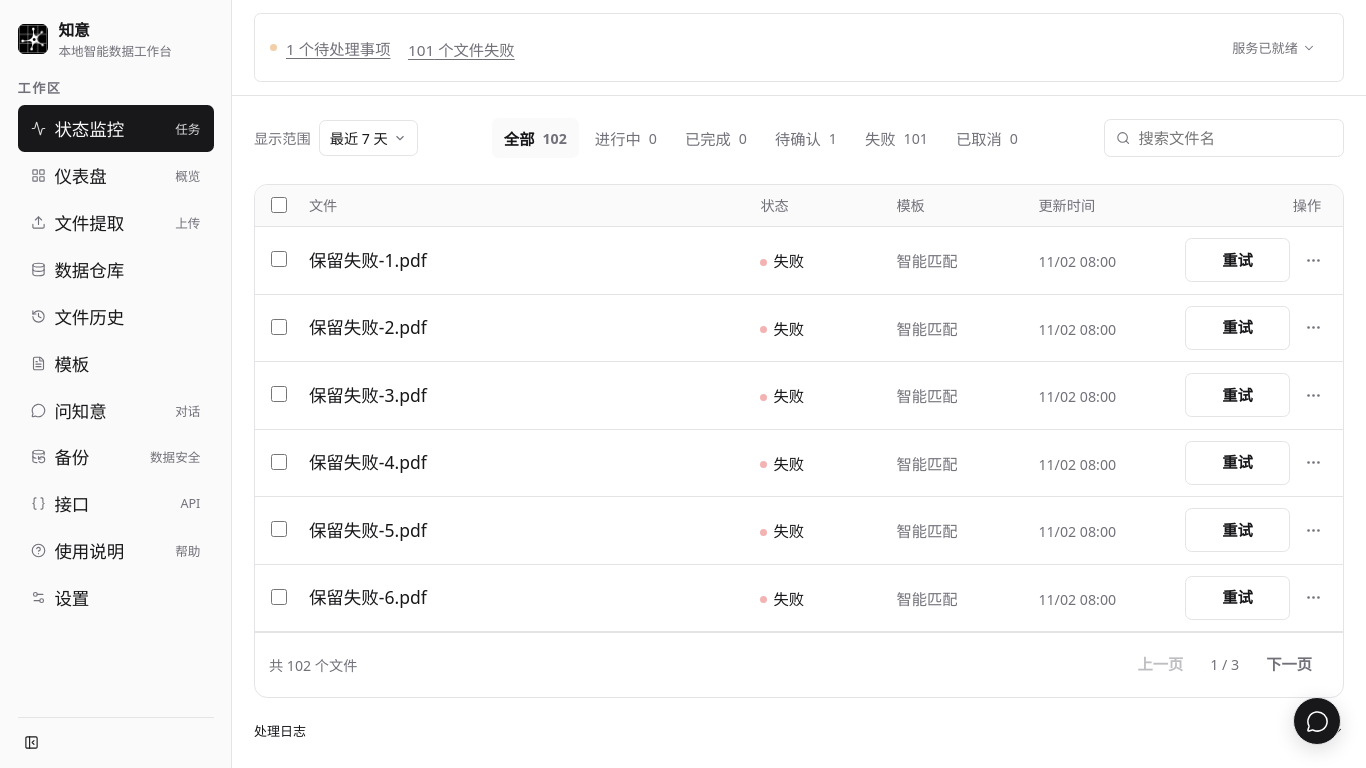
global pending shortcut › keeps the old filter, search and page for the ordinary paused-task shortcut
The width and height of the screenshot is (1366, 768).
Expected: the button "1 个待处理事项" is shown, [286,37,390,59]
Click the button "失败 101".
click(896, 138)  # box [853,118,940,158]
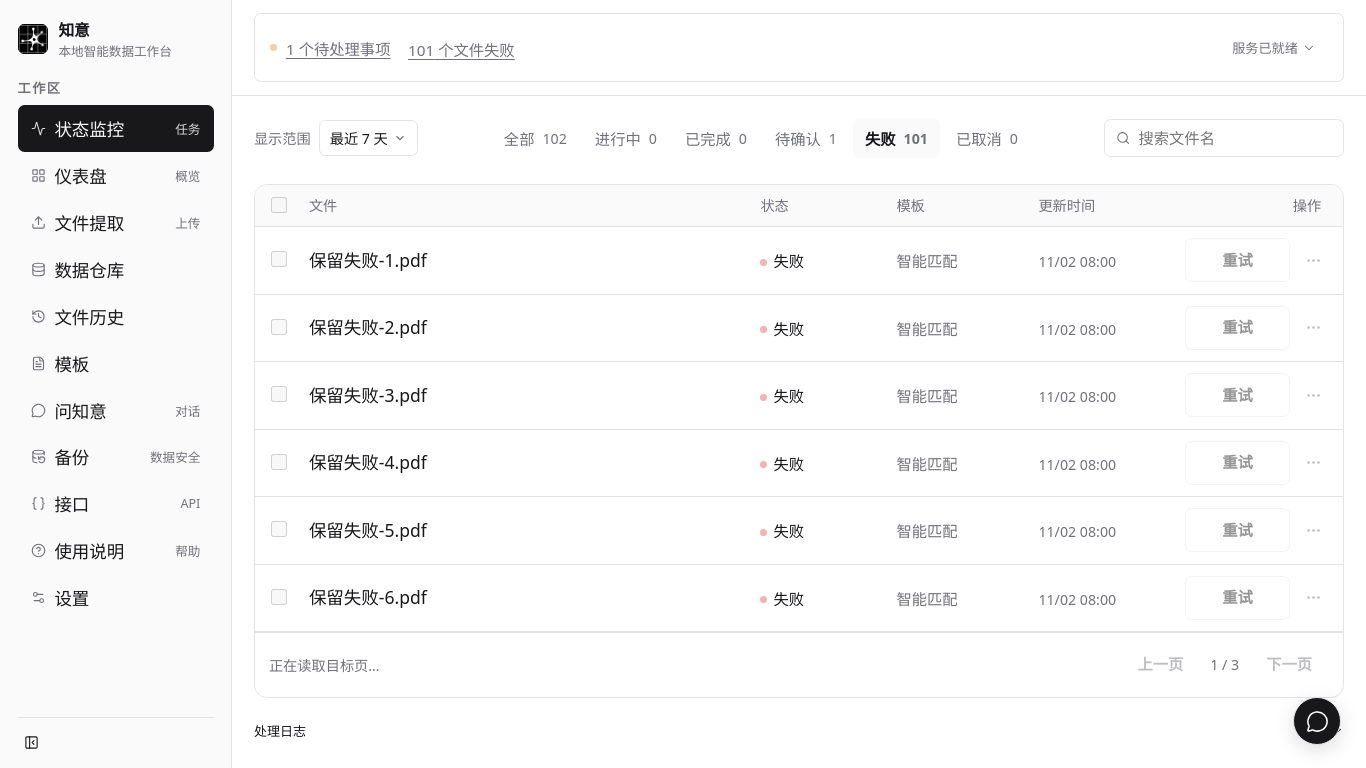
Type "保留" into the field named "搜索任务文件名".
click(1235, 138); type("保留")  # box [1138,128,1332,148]
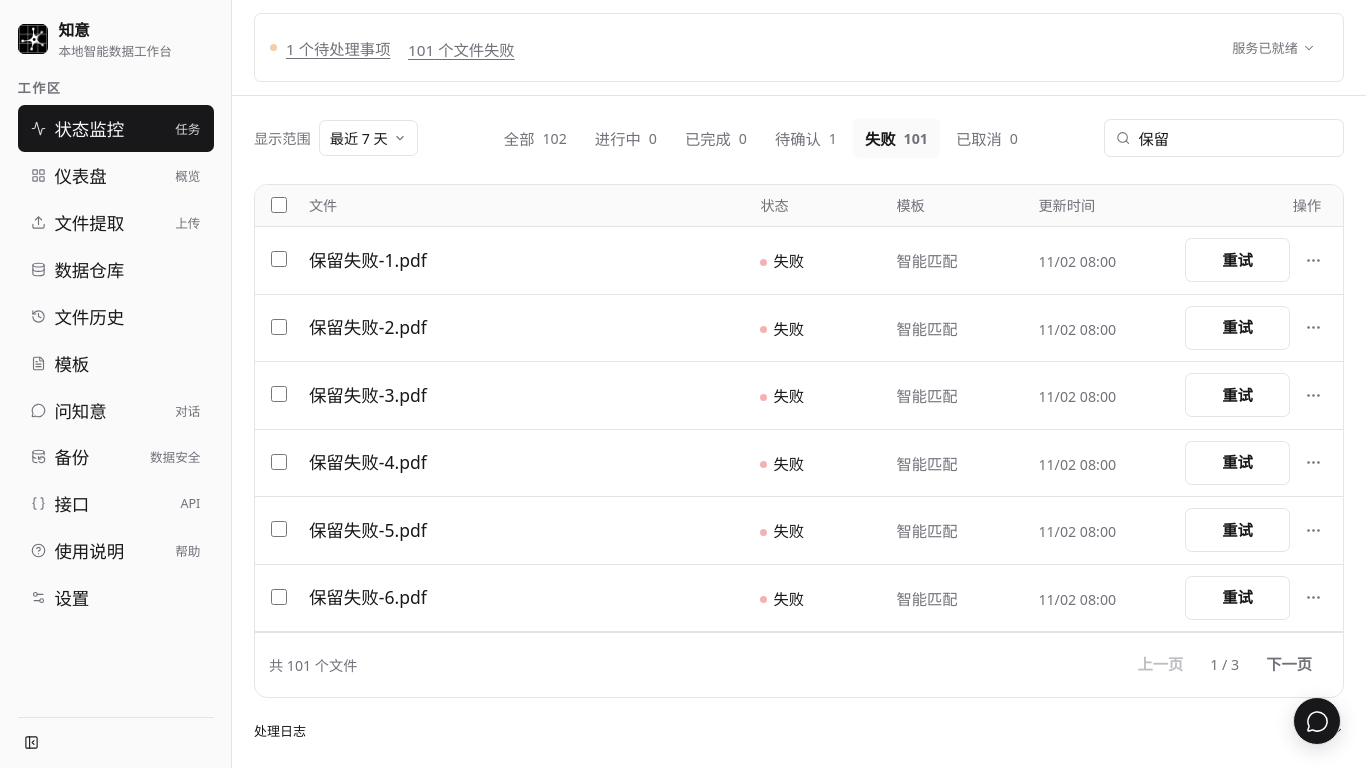
Now the button "下一页" is enabled
Click the button "下一页".
click(1289, 665)  # box [1249,643,1329,687]
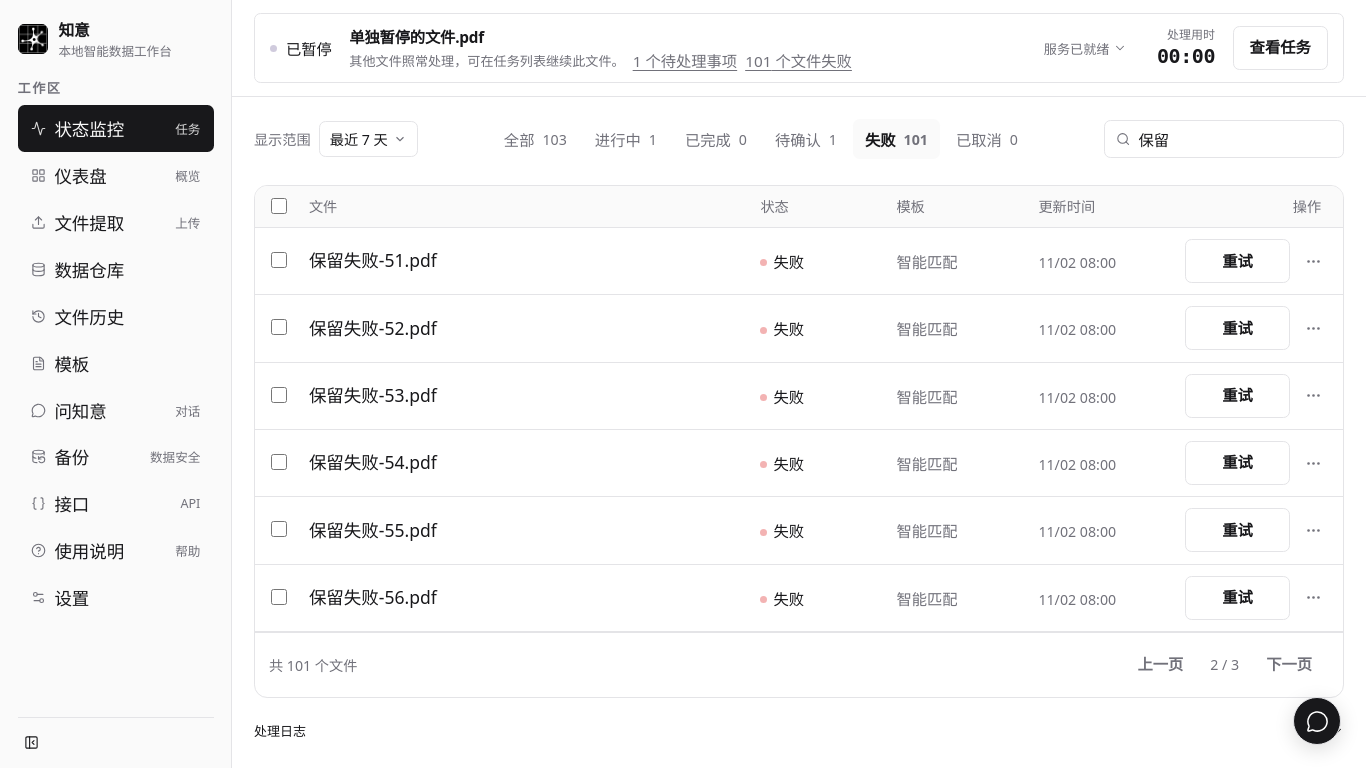
Now the text "保留失败-51.pdf" is shown, box [309,248,437,272]
Now the button "上一页" is enabled, box [1120,643,1200,687]
Now the button "查看任务" is shown, box [1233,26,1328,70]
Click the button "文件提取 上传".
click(116, 223)  # box [18,199,214,246]
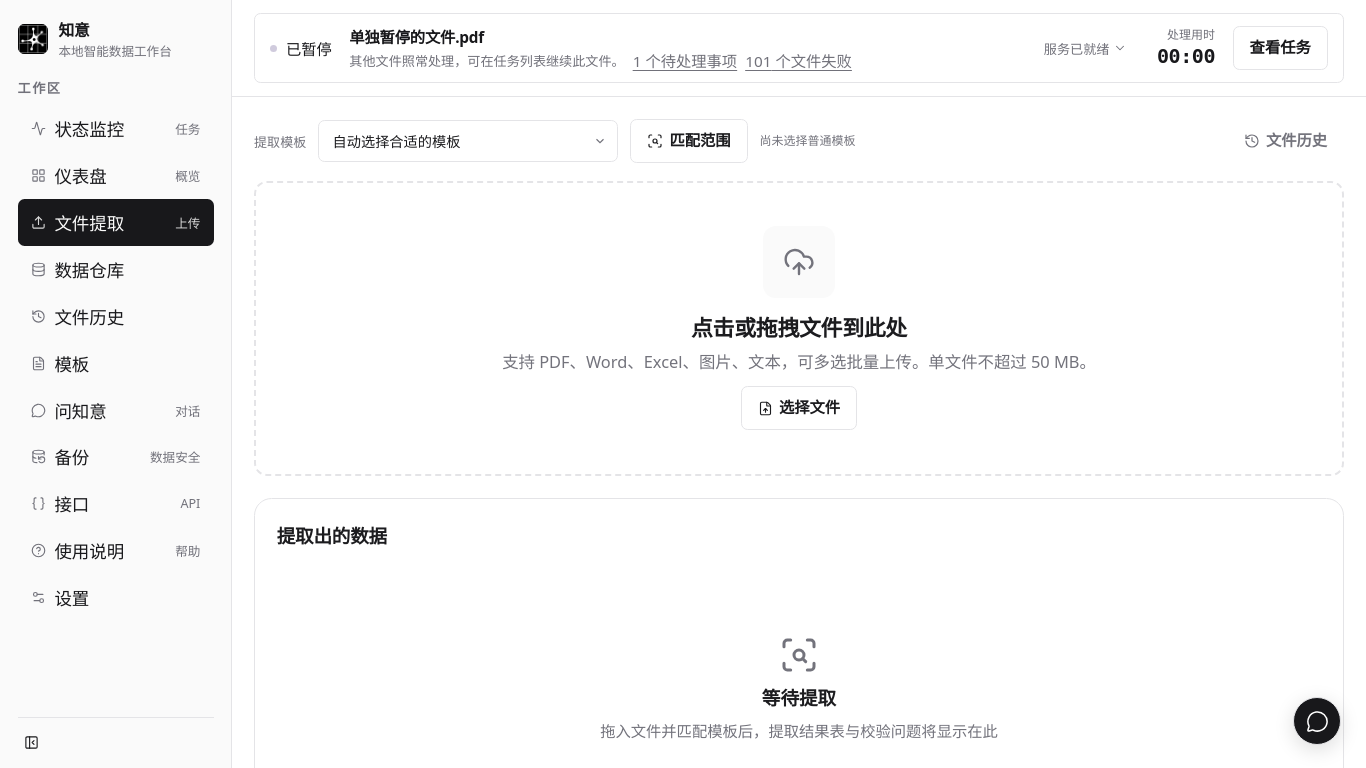
Now the heading "提取出的数据" is shown, box [277,521,387,548]
Click the button "查看任务".
click(1280, 48)  # box [1233,26,1328,70]
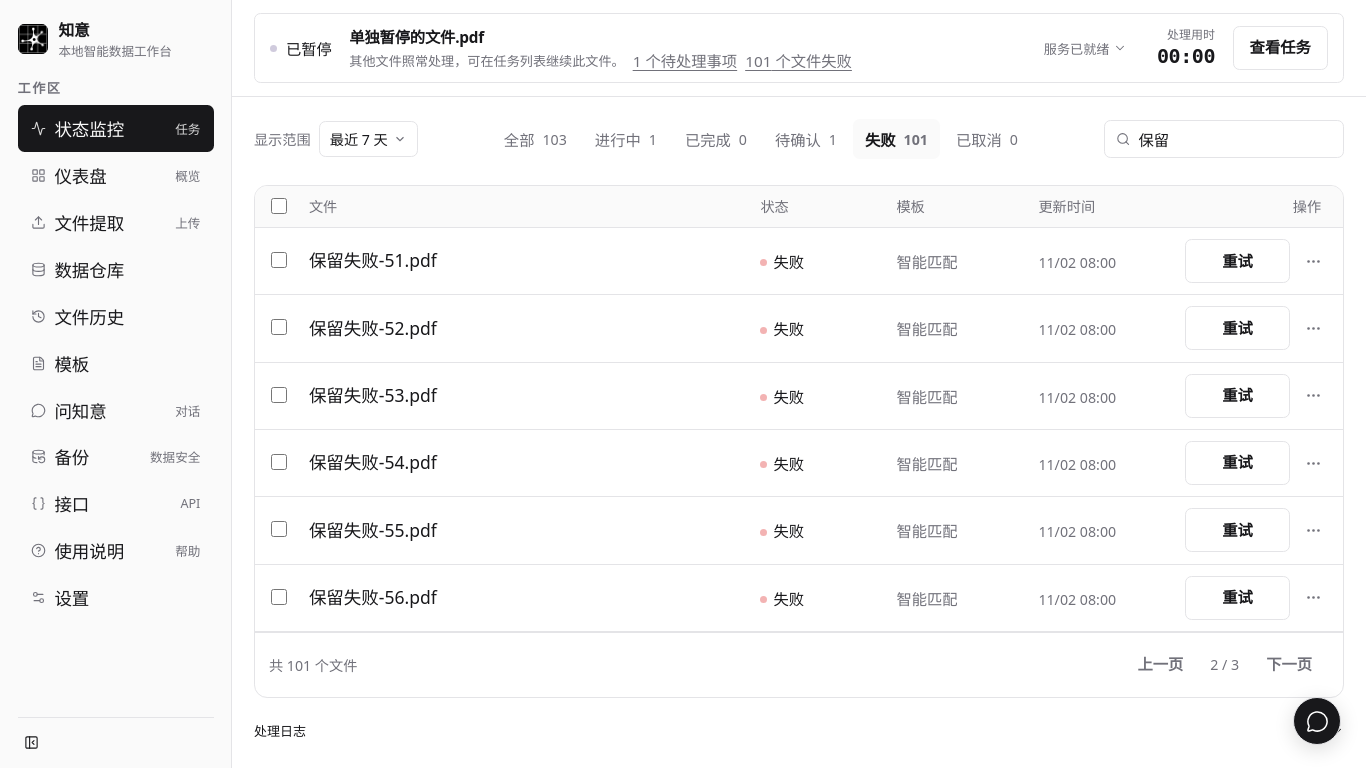
Now the field named "搜索任务文件名" holds "保留", box [1138,129,1332,149]
Now the text "保留失败-51.pdf" is shown, box [309,248,437,272]
Now the button "上一页" is enabled, box [1120,643,1200,687]
